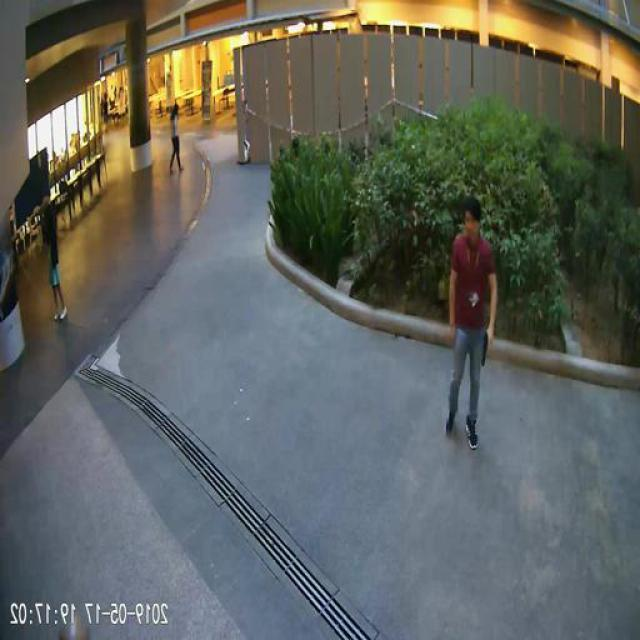Gun: (484, 330, 495, 364)
